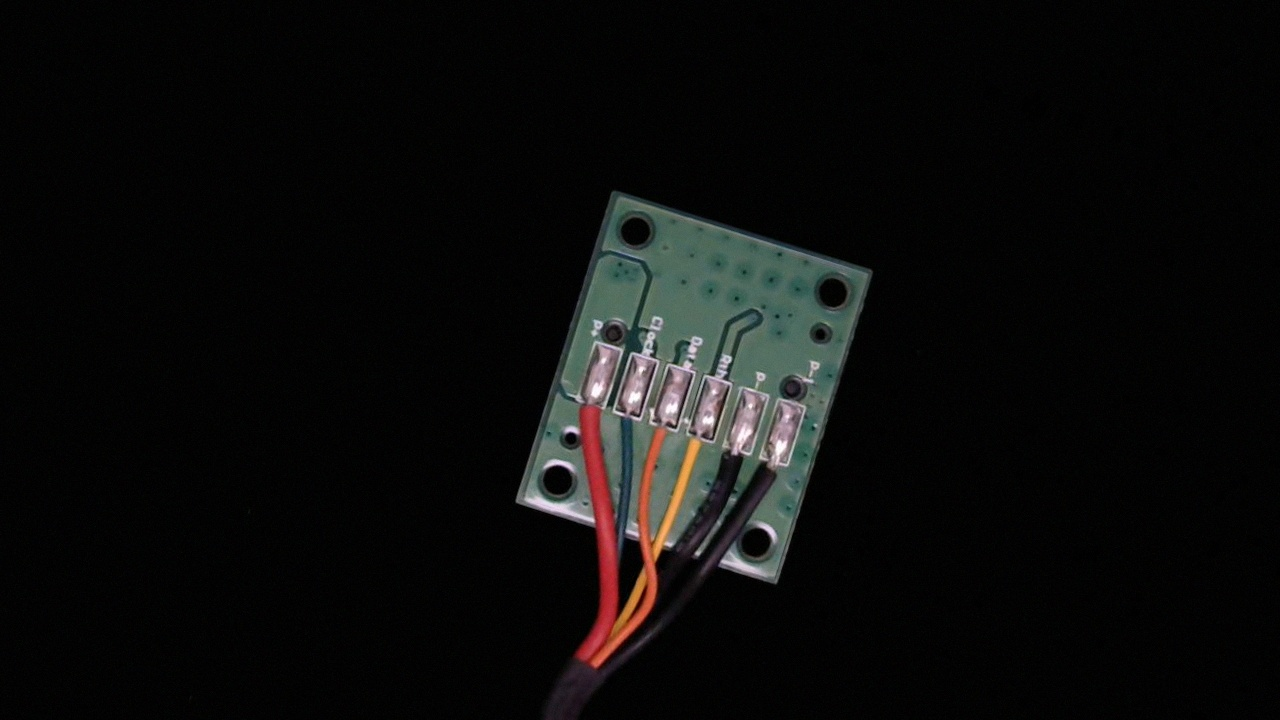Black: (709, 432, 755, 503)
Black1: (744, 443, 795, 517)
Green: (600, 395, 649, 457)
Orange: (635, 408, 684, 479)
Red: (562, 383, 611, 458)
Yellow: (667, 419, 722, 499)
